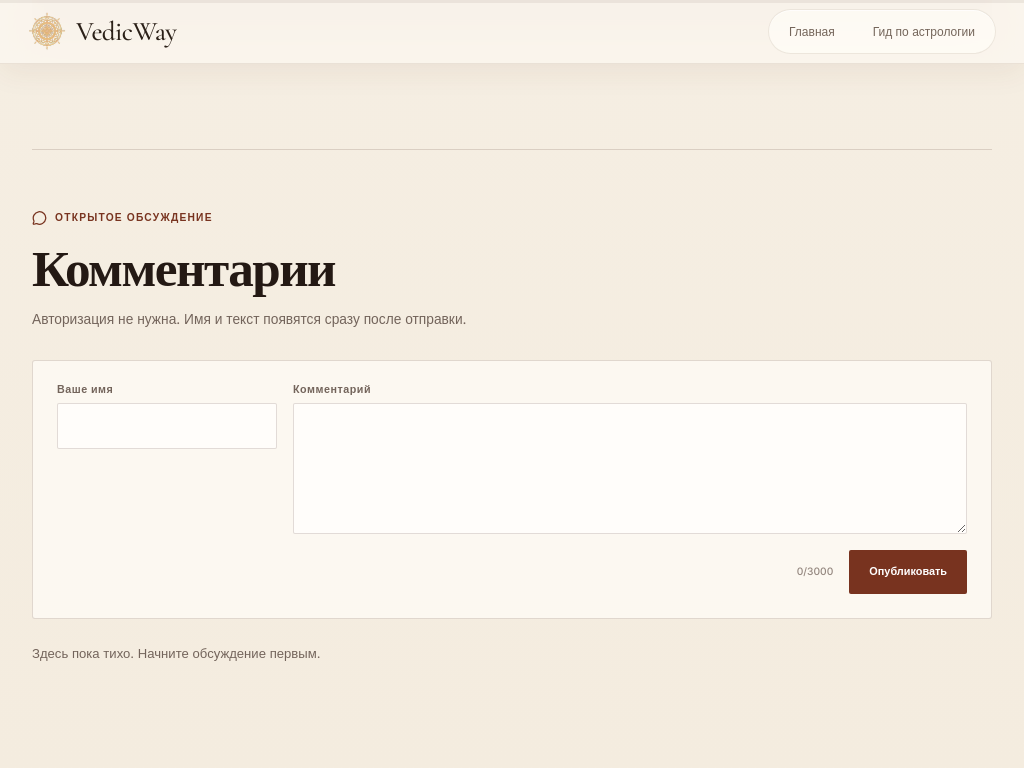
Test: страница статьи › даёт любому читателю добавить комментарий
(page scrolled)
Type "Анна" into the field labelled "Ваше имя" at x=167, y=426, box [57,404,277,450]
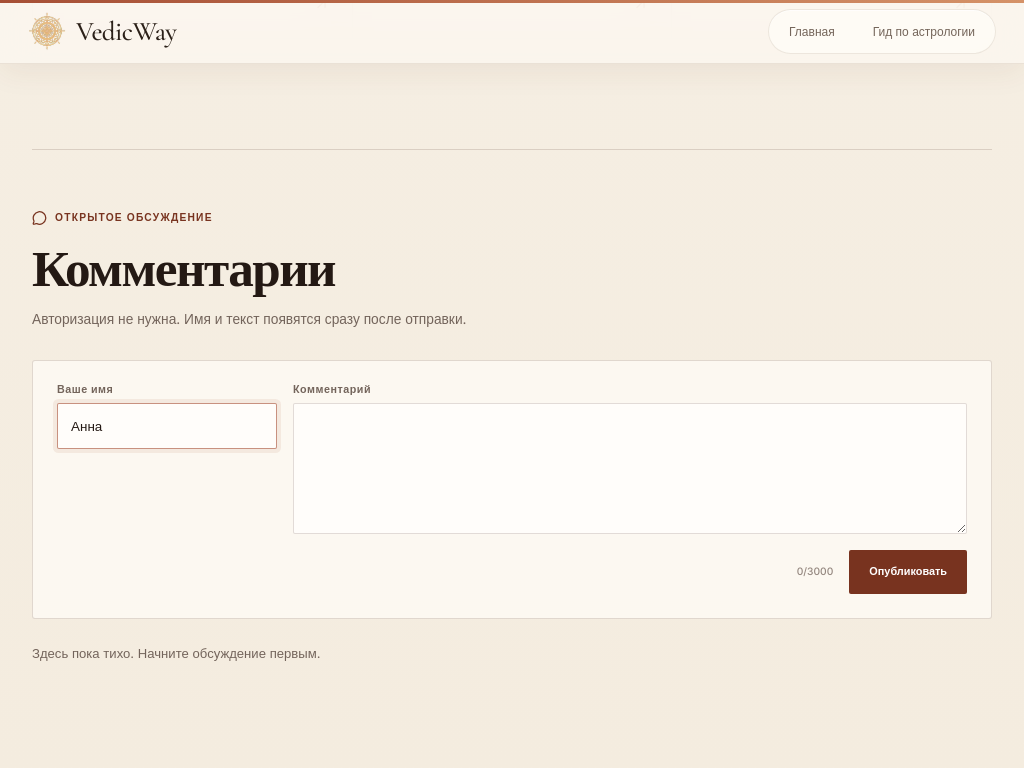
Type "Полезный порядок проверки." into the text box labelled "Комментарий" at x=630, y=469, box [293,404,967,534]
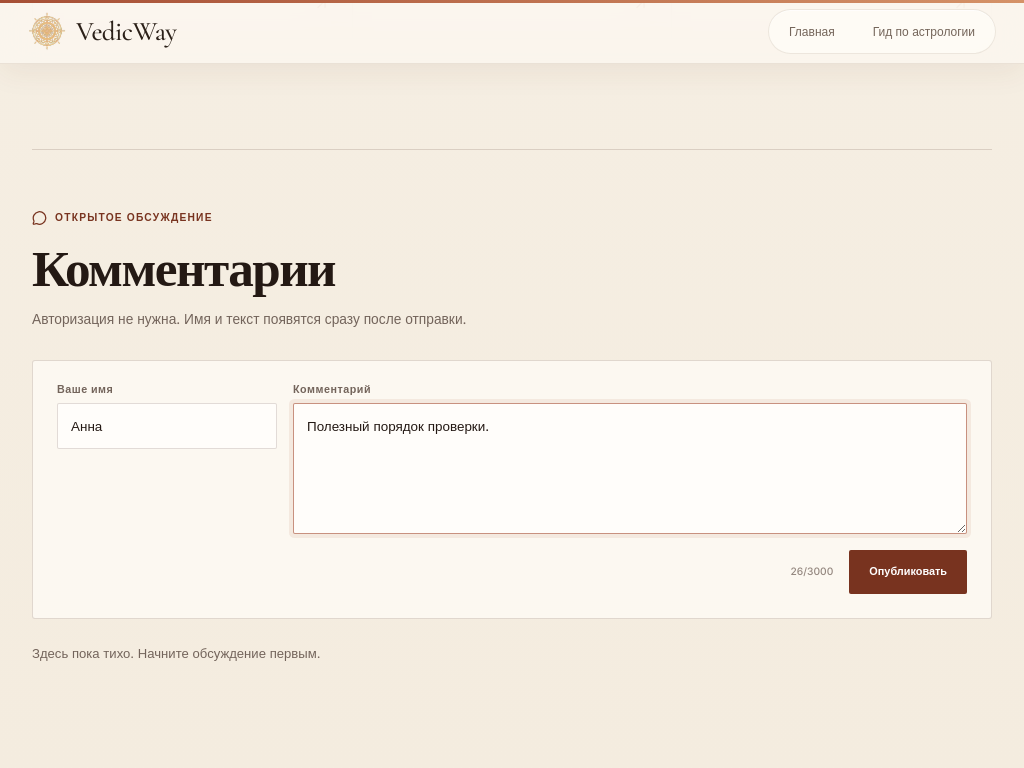
Click the button "Опубликовать" at x=908, y=572, box [849,550,967,594]
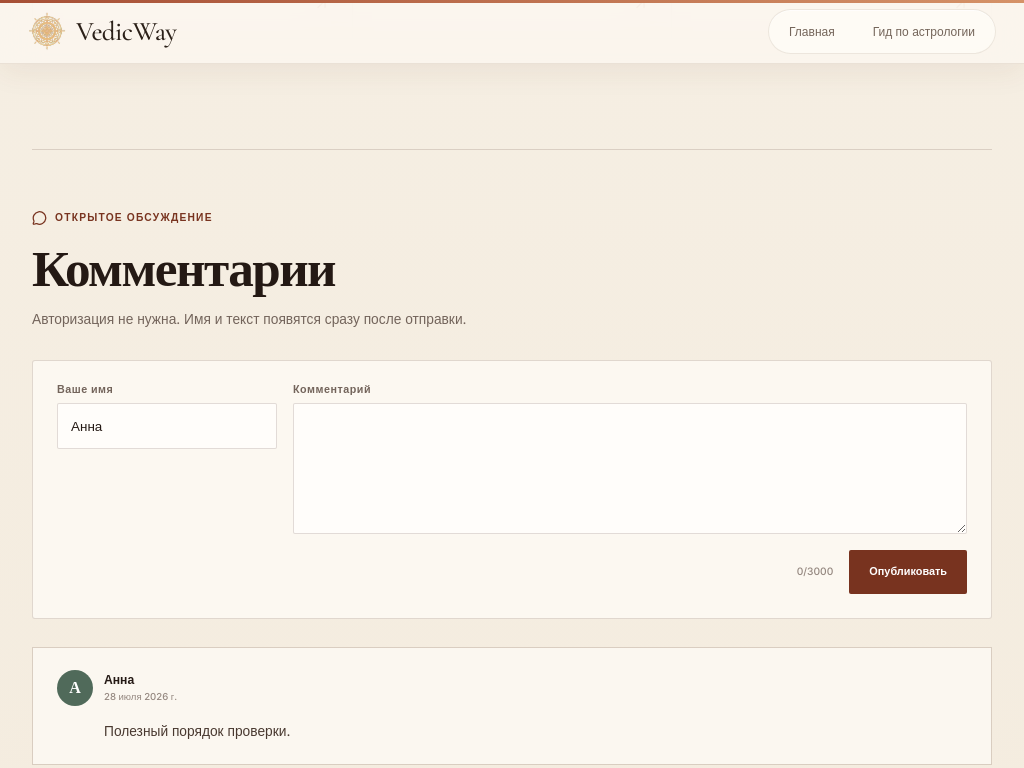
Check: the text "Полезный порядок проверки." is shown, box [104,723,290,739]
